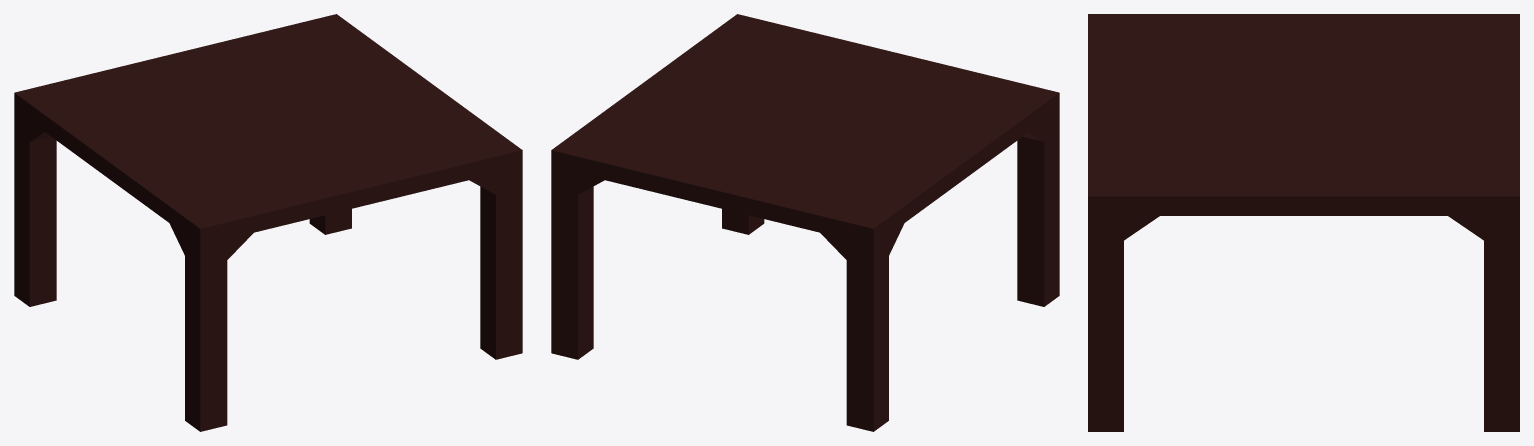
The model's file is table.fbx.
3 renders of one model, left to right at view 1: azimuth 30°, elevation 25°; view 2: azimuth 150°, elevation 25°; view 3: azimuth 270°, elevation 25°, orthographic. The views are drawn at different scales.
Parts seen in each view (by area): view 1: pCube18; view 2: pCube18; view 3: pCube18.
Part boxes in pixels (<box>): pCube18: <box>14,14,522,431</box>; pCube18: <box>551,14,1059,431</box>; pCube18: <box>1088,14,1519,431</box>.
Size of the model in its own units: 240 by 144 by 240.
